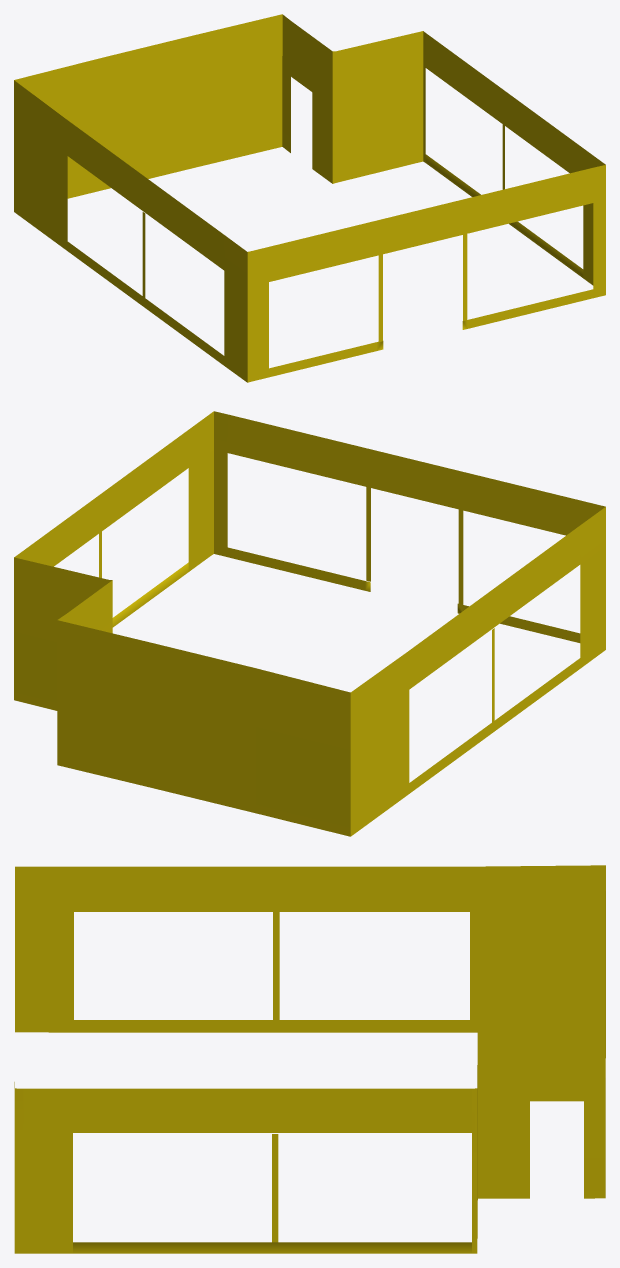
3 views of the same model, one above another, from view 1: azimuth 30°, elevation 25°; view 2: azimuth 150°, elevation 25°; view 3: azimuth 270°, elevation 25° (orthographic). The views are drawn at different scales.
Visible parts, largest first — view 1: S_03_WP_02; view 2: S_03_WP_02; view 3: S_03_WP_02.
Part boxes in pixels (x1,y1,x2,y2): S_03_WP_02: [14, 14, 605, 382]; S_03_WP_02: [14, 411, 605, 836]; S_03_WP_02: [14, 865, 605, 1253].
Size of the model in its own units: 1185 by 420 by 1335.
